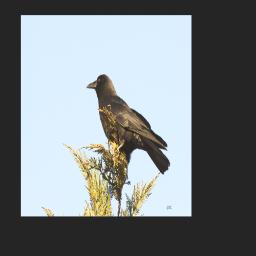Crow: (85, 71, 170, 179)
